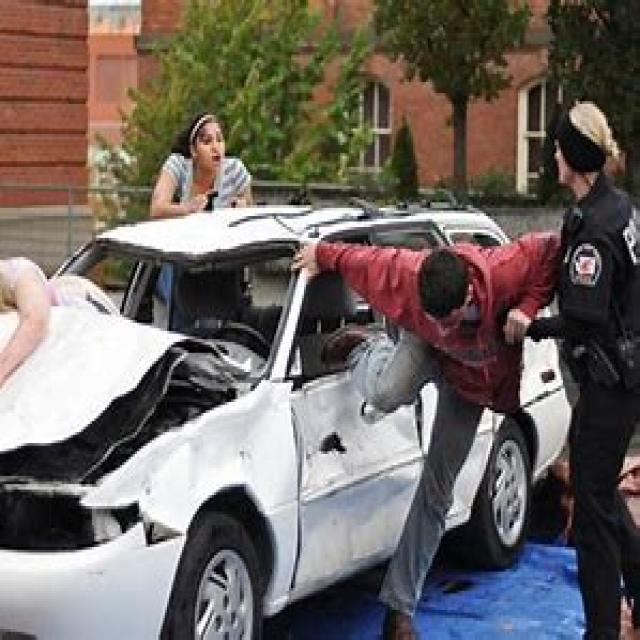Accident: (78, 141, 586, 640)
